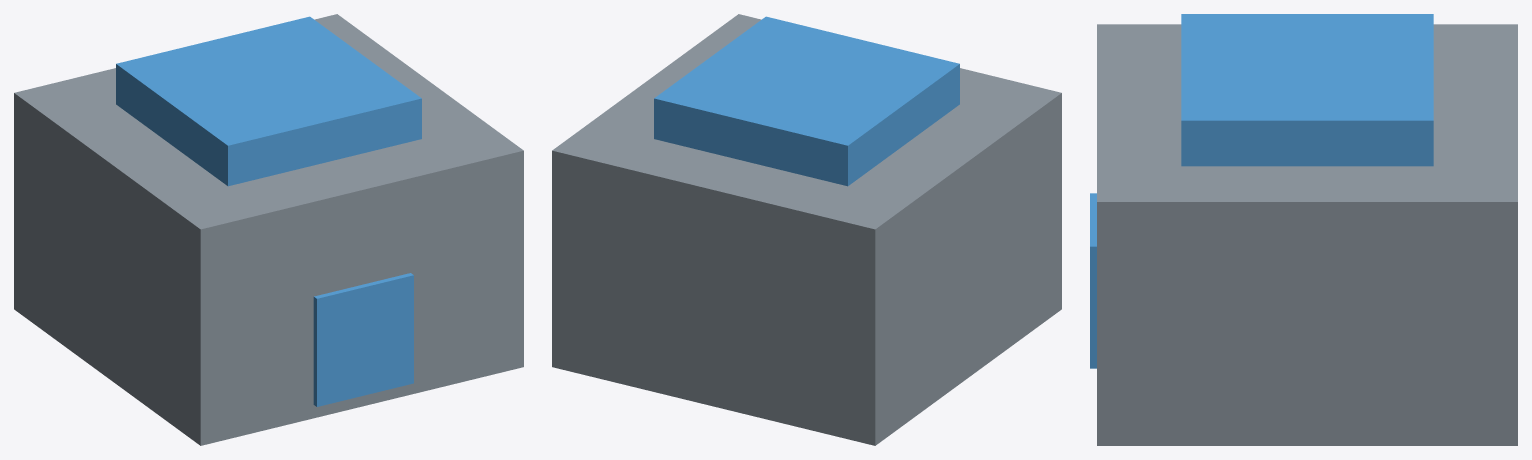
The model's file is AL_PowerPlant_LOD0.glb.
3 renders of one model, left to right at view 1: azimuth 30°, elevation 25°; view 2: azimuth 150°, elevation 25°; view 3: azimuth 270°, elevation 25°, orthographic. The views are drawn at different scales.
Parts seen in each view (by area): view 1: EntranceGate; view 2: EntranceGate; view 3: EntranceGate.
Boxes of the visible parts, bbox=[...] form: EntranceGate: bbox=[14, 14, 523, 445]; EntranceGate: bbox=[552, 14, 1061, 445]; EntranceGate: bbox=[1090, 14, 1517, 445].
Size of the model in its own units: 600 by 456 by 610.
